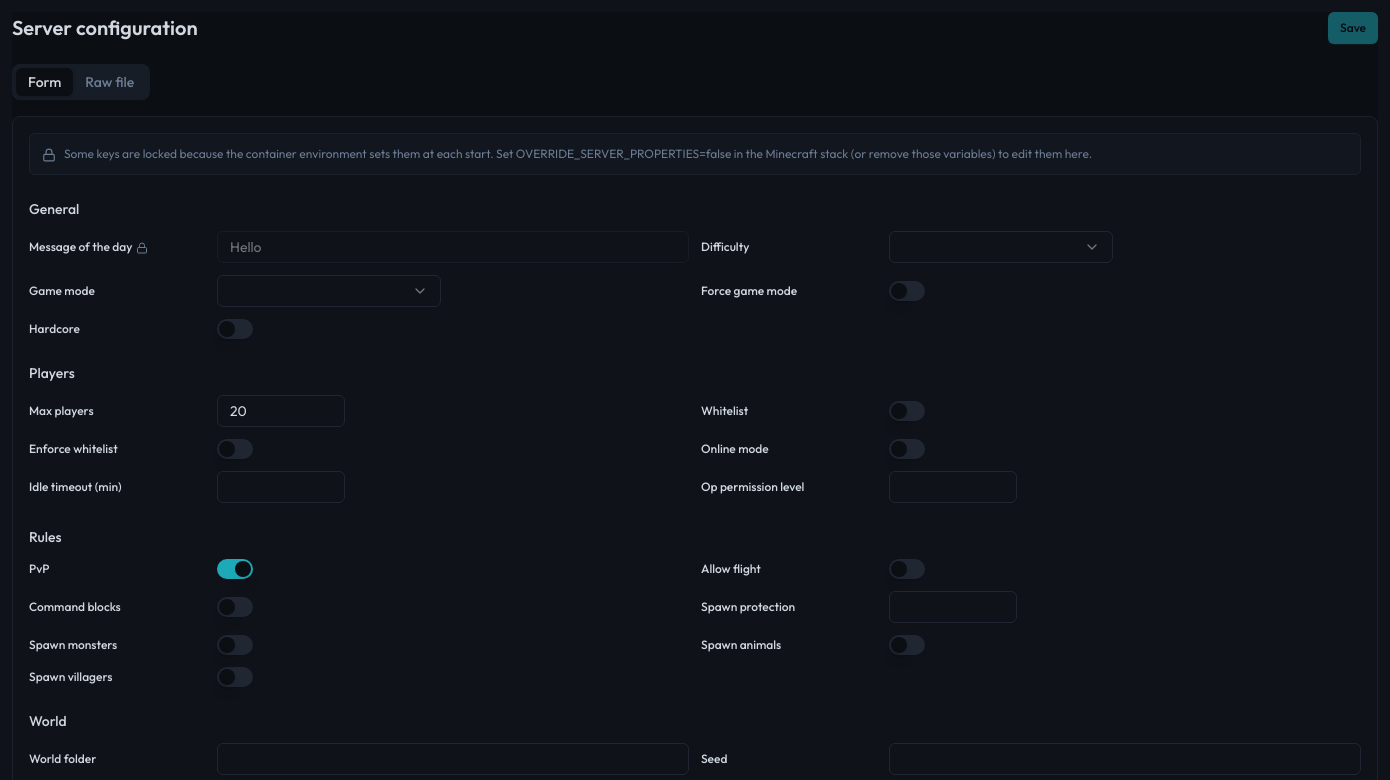
Test case: Config page › renders the form with a locked field and saves only the changed values
This screenshot has width=1390, height=780.
Expected: the field labelled "Message of the day" is disabled, [217,231,689,263]
Expected: the element titled "Managed by MOTD in the container environment. Set OVERRIDE_S" is shown, [29,231,689,263]
Replace the text in the number field labelled "Max players" with "10" at [281, 411], box [217,395,345,427]
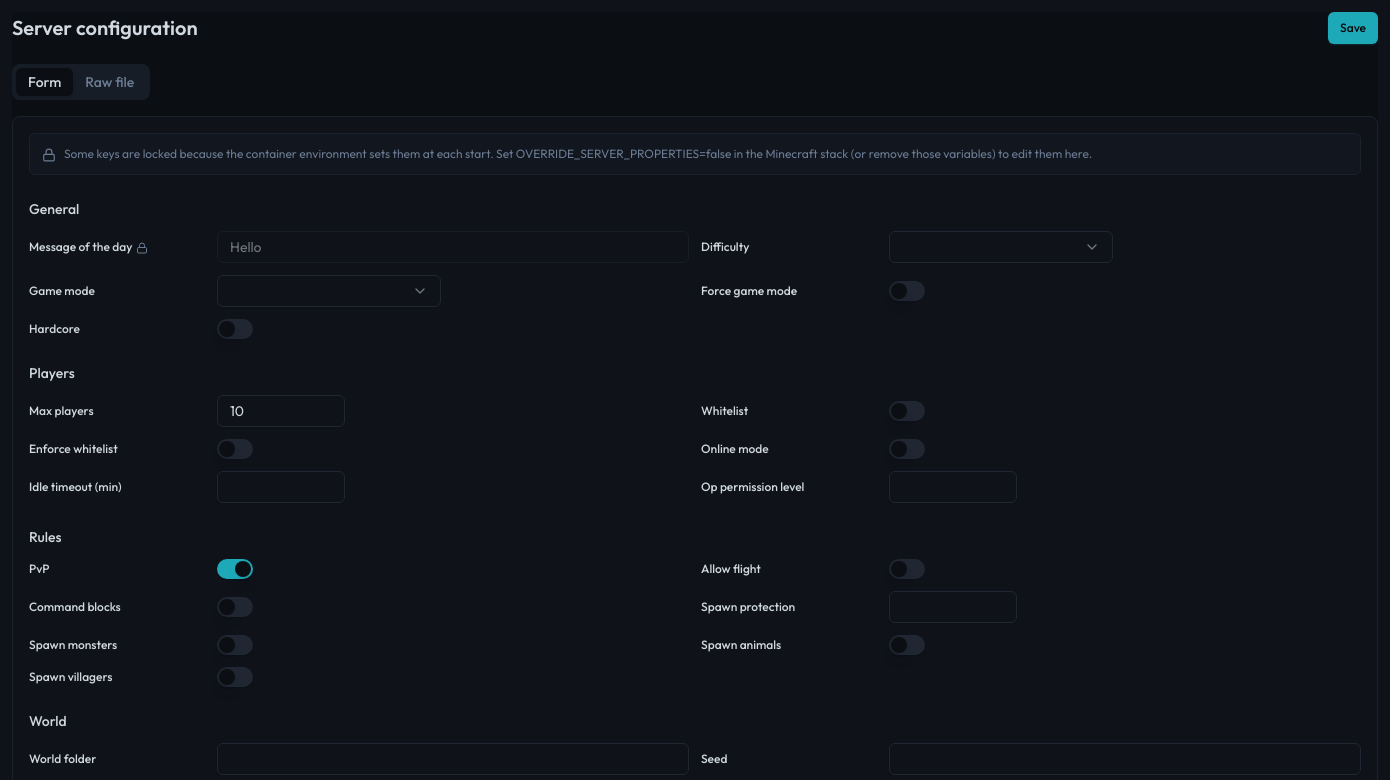
Expected: the button "Save" is enabled
Click the button "Save" at [1353, 28], box [1328,12,1378,44]
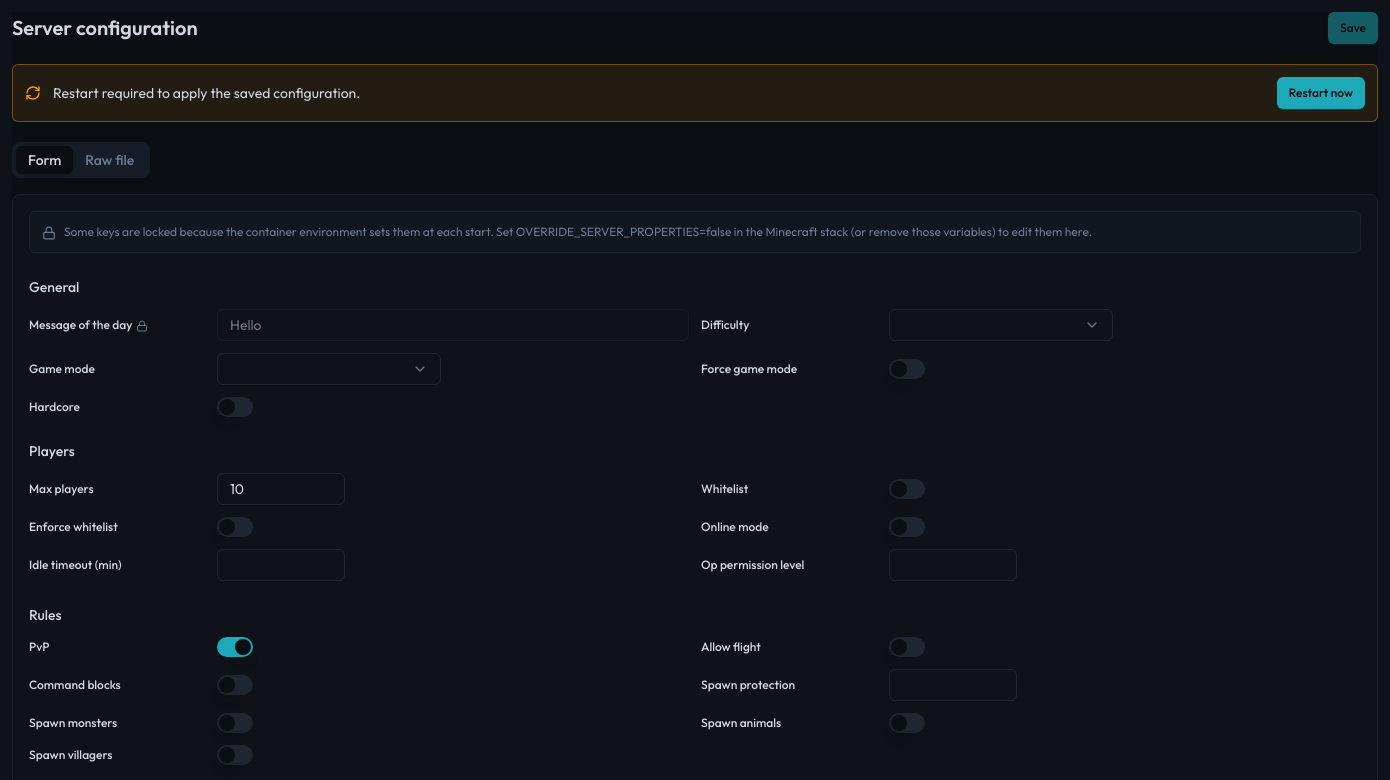
Expected: the text "Restart required to apply the saved configuration." is shown, [53,83,360,103]
